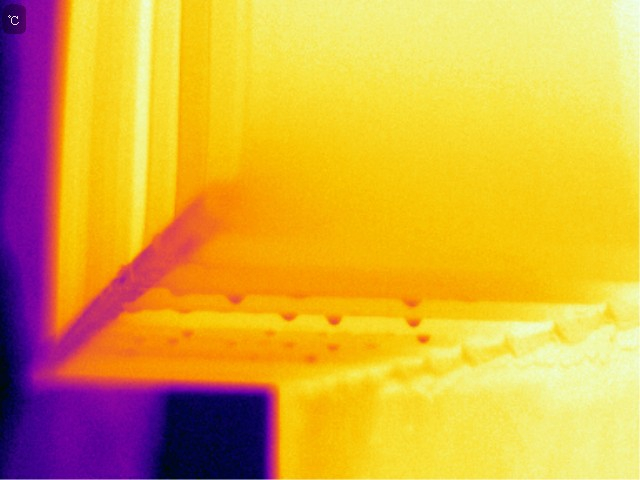Oil: (220, 291, 250, 308), (176, 326, 201, 343), (124, 296, 142, 317), (288, 287, 310, 304), (364, 333, 379, 357), (399, 295, 422, 309), (401, 316, 423, 329), (173, 303, 192, 318), (280, 310, 299, 323), (323, 315, 343, 327), (302, 350, 316, 367), (261, 327, 274, 340), (325, 344, 341, 353), (417, 335, 429, 342)
